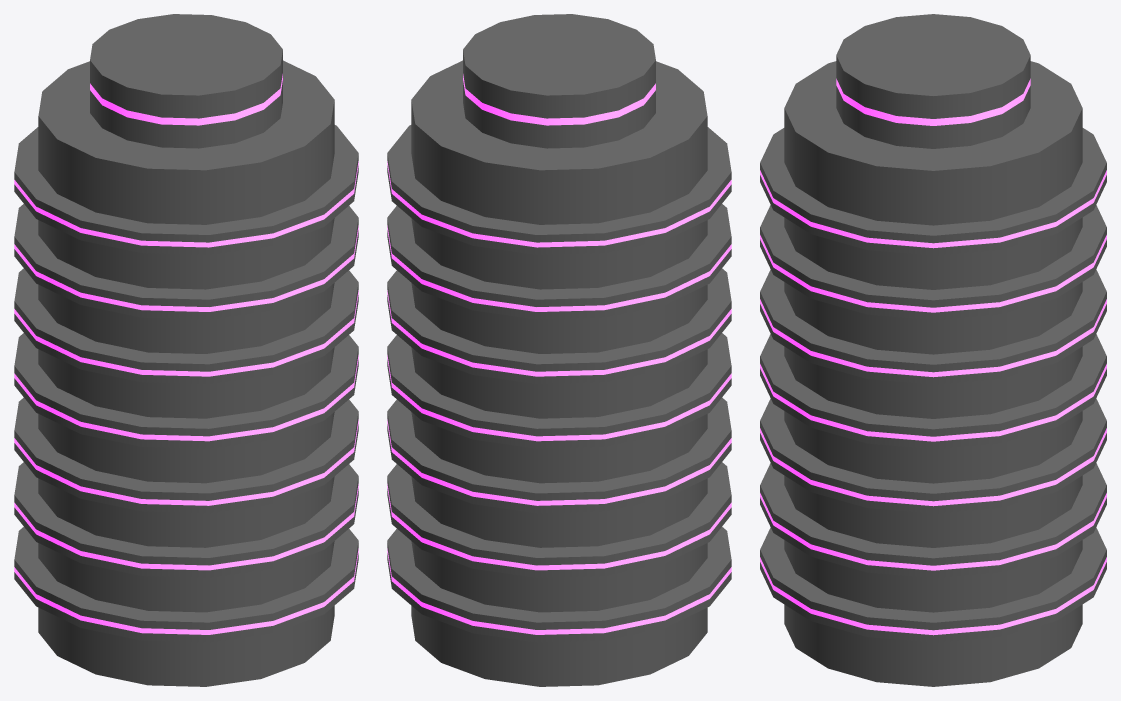
The model's file is mesh_Rooftop_Background_Building_C.fbx.
The picture shows the model from 3 angles, left to right: view 1: azimuth 30°, elevation 25°; view 2: azimuth 150°, elevation 25°; view 3: azimuth 270°, elevation 25°; orthographic projection.
Parts seen in each view (by area): view 1: mesh_Rooftop_Background_Building_C; view 2: mesh_Rooftop_Background_Building_C; view 3: mesh_Rooftop_Background_Building_C.
Part boxes in pixels (<box>): mesh_Rooftop_Background_Building_C: <box>14,14,358,686</box>; mesh_Rooftop_Background_Building_C: <box>387,14,731,686</box>; mesh_Rooftop_Background_Building_C: <box>760,14,1106,686</box>.
Bounding box in the file's own units: 14.12 × 25.56 × 14.12.
